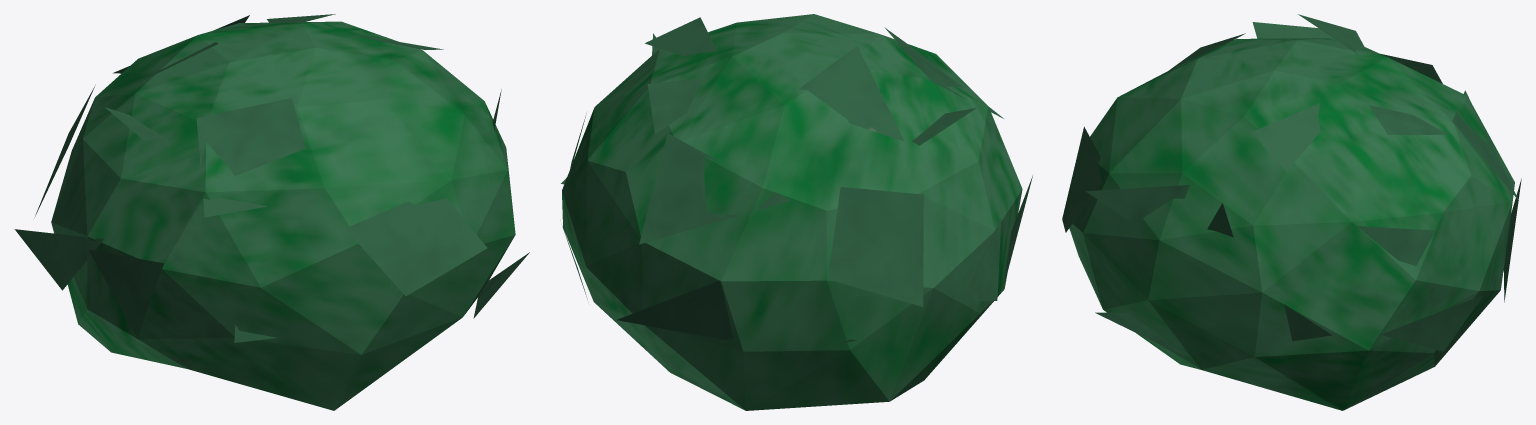
Rendered from Bush2.fbx.
3 views of the same model, side by side, from view 1: azimuth 30°, elevation 25°; view 2: azimuth 150°, elevation 25°; view 3: azimuth 270°, elevation 25° (orthographic). The views are drawn at different scales.
Parts seen in each view (by area): view 1: Bush2; view 2: Bush2; view 3: Bush2.
Boxes of the visible parts, bbox=[...] form: Bush2: bbox=[14, 14, 529, 410]; Bush2: bbox=[561, 14, 1032, 410]; Bush2: bbox=[1062, 14, 1521, 410].
Bounding box in the file's own units: 1.01 × 0.6967 × 0.9549.
